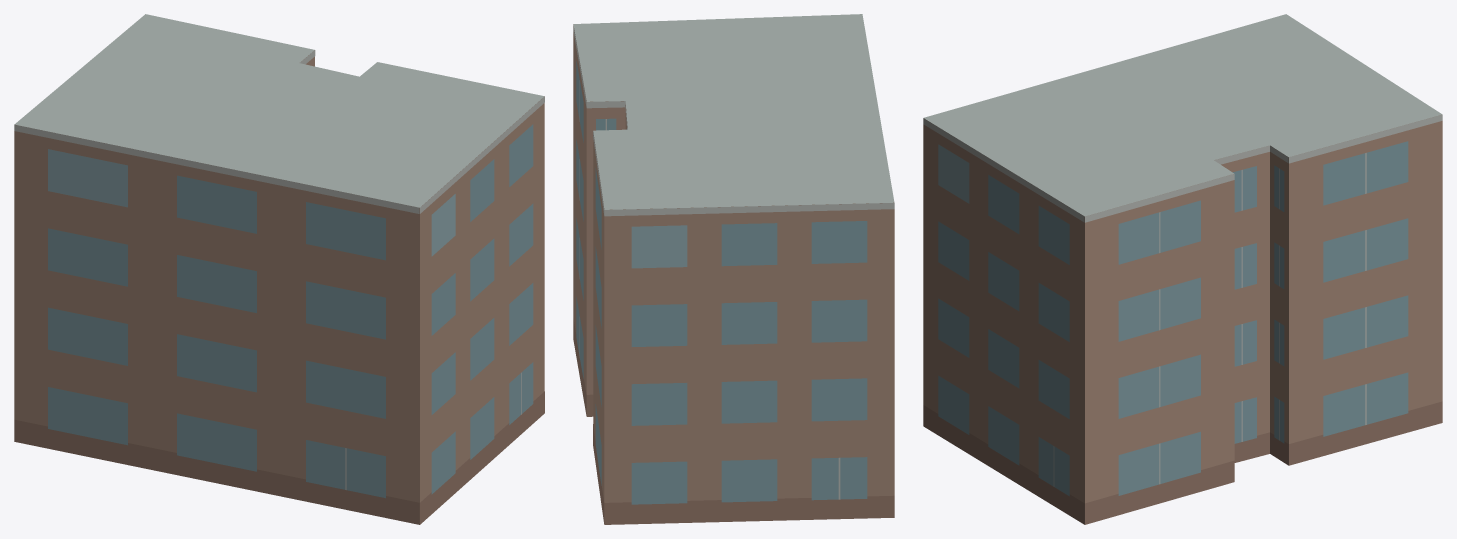
File: survey-upis-32912733.glb
3 renders of one model, left to right at view 1: azimuth 30°, elevation 25°; view 2: azimuth 150°, elevation 25°; view 3: azimuth 270°, elevation 25°, orthographic. The views are drawn at different scales.
Parts seen in each view (by area): view 1: survey-upis-32912733.tmp; view 2: survey-upis-32912733.tmp; view 3: survey-upis-32912733.tmp.
Part boxes in pixels (left/top/right/bottom): survey-upis-32912733.tmp: left=14, top=14, right=544, bottom=524; survey-upis-32912733.tmp: left=573, top=14, right=894, bottom=524; survey-upis-32912733.tmp: left=923, top=14, right=1442, bottom=524.
Size of the model in its own units: 16.91 by 12 by 18.33.
